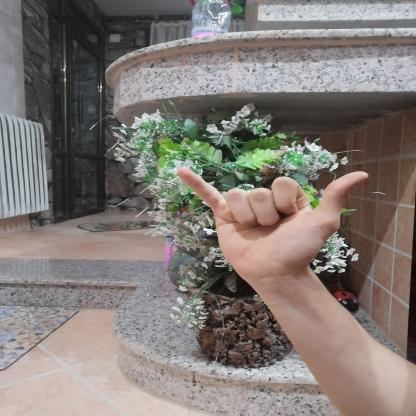YA: (157, 156, 386, 293)
